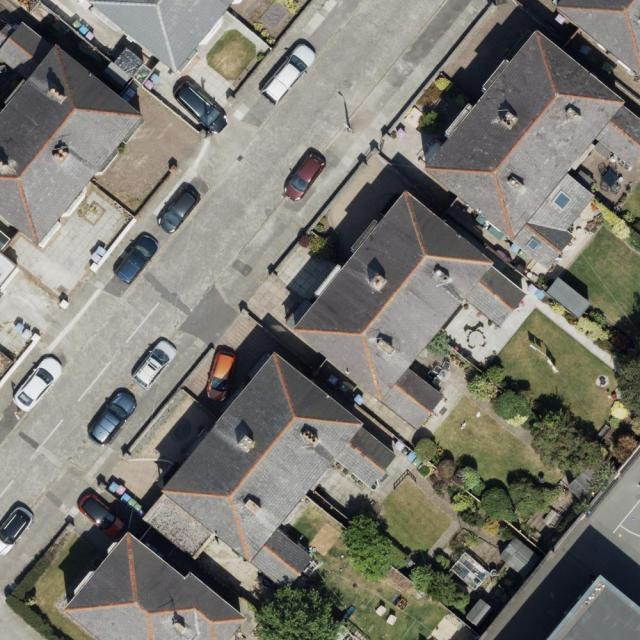roof: (138, 353, 400, 595), (292, 189, 533, 433), (419, 29, 640, 274), (0, 20, 146, 248), (61, 528, 250, 640), (86, 0, 235, 73), (555, 0, 640, 81), (547, 567, 640, 640)
skylight: (552, 189, 572, 210), (527, 233, 544, 250)
